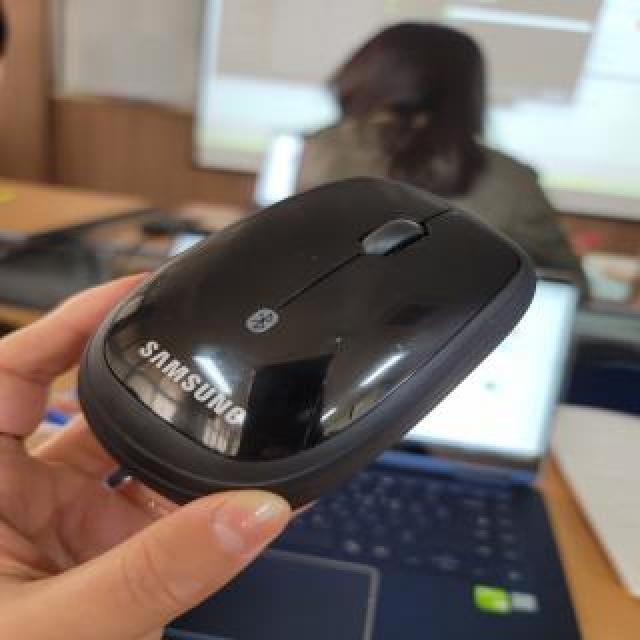mouse: (65, 140, 528, 453)
